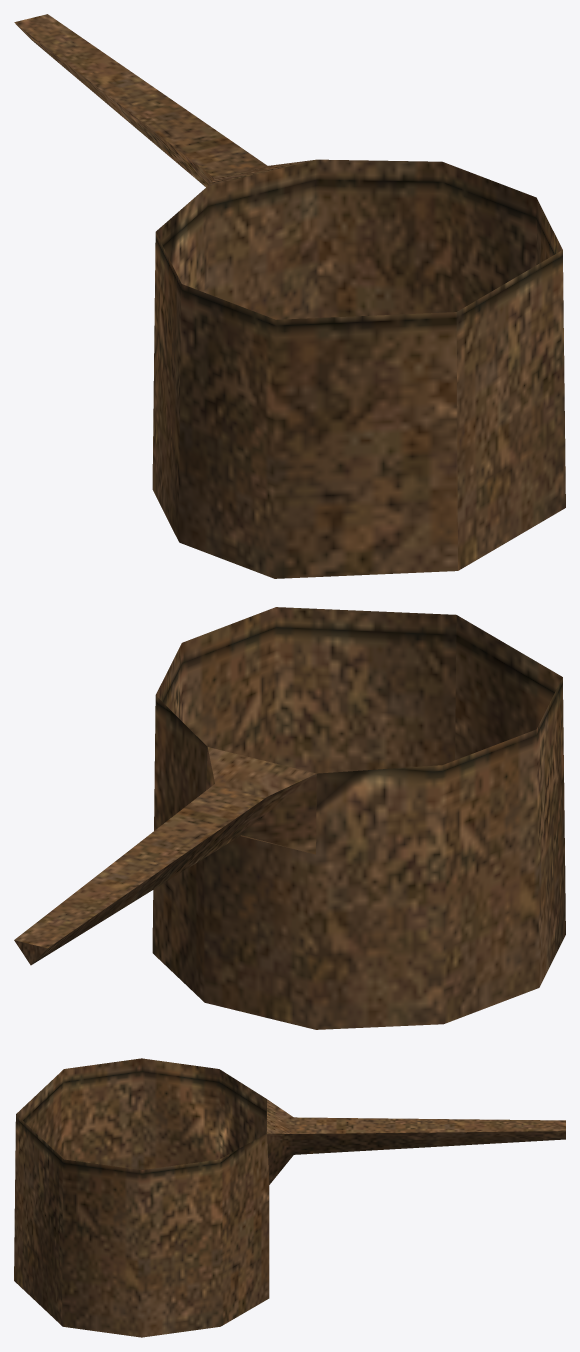
File: edb_con_tato_pot_empty_s02_l1.fbx
3 views of the same model, one above another, from view 1: azimuth 30°, elevation 25°; view 2: azimuth 150°, elevation 25°; view 3: azimuth 270°, elevation 25° (orthographic). The views are drawn at different scales.
Visible parts, largest first — view 1: mesh_node; view 2: mesh_node; view 3: mesh_node.
Part boxes in pixels (x1=…): mesh_node: x1=14, y1=14, x2=565, y2=578; mesh_node: x1=14, y1=607, x2=565, y2=1029; mesh_node: x1=14, y1=1058, x2=565, y2=1337.
Size of the model in its own units: 0.1583 by 0.1083 by 0.3253.
1 material, 1 textured.
